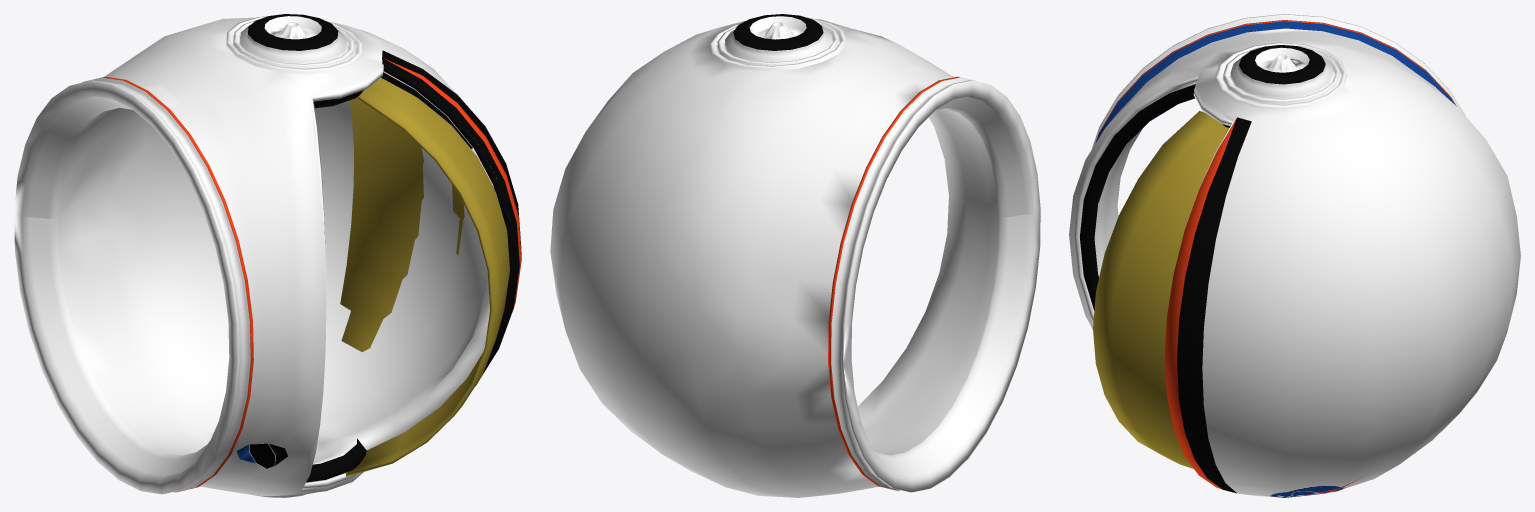
The model's file is AstroHelmet.fbx.
3 views of the same model, side by side, from view 1: azimuth 30°, elevation 25°; view 2: azimuth 150°, elevation 25°; view 3: azimuth 270°, elevation 25° (orthographic). The views are drawn at different scales.
Parts seen in each view (by area): view 1: HELMET.002; view 2: HELMET.002; view 3: HELMET.002.
Boxes of the visible parts, <box> form: HELMET.002: <box>14,14,521,497</box>; HELMET.002: <box>550,14,1040,497</box>; HELMET.002: <box>1069,14,1520,497</box>.
Size of the model in its own units: 0.1633 by 0.191 by 0.1795.
